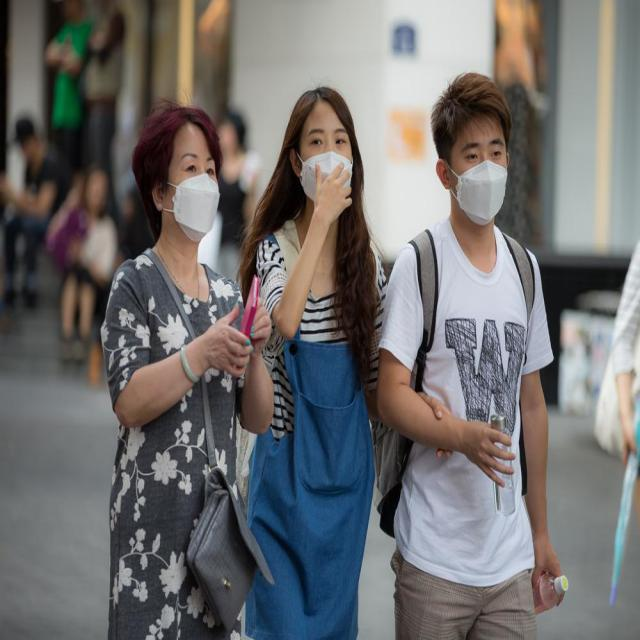face: (449, 110, 512, 230), (162, 126, 218, 246), (298, 102, 357, 210), (85, 175, 106, 213), (218, 119, 238, 154), (16, 130, 34, 160)
